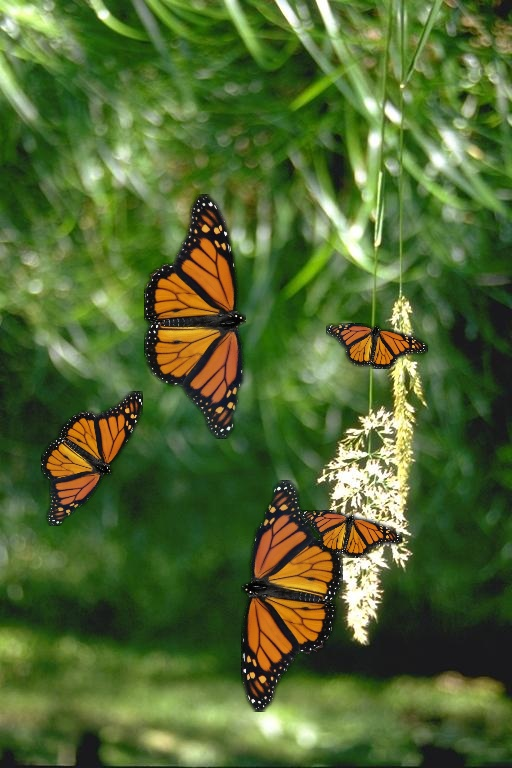danaus_plexippus: (144, 199, 246, 444), (241, 480, 343, 712), (41, 391, 143, 526), (300, 510, 402, 558), (326, 323, 428, 369)
